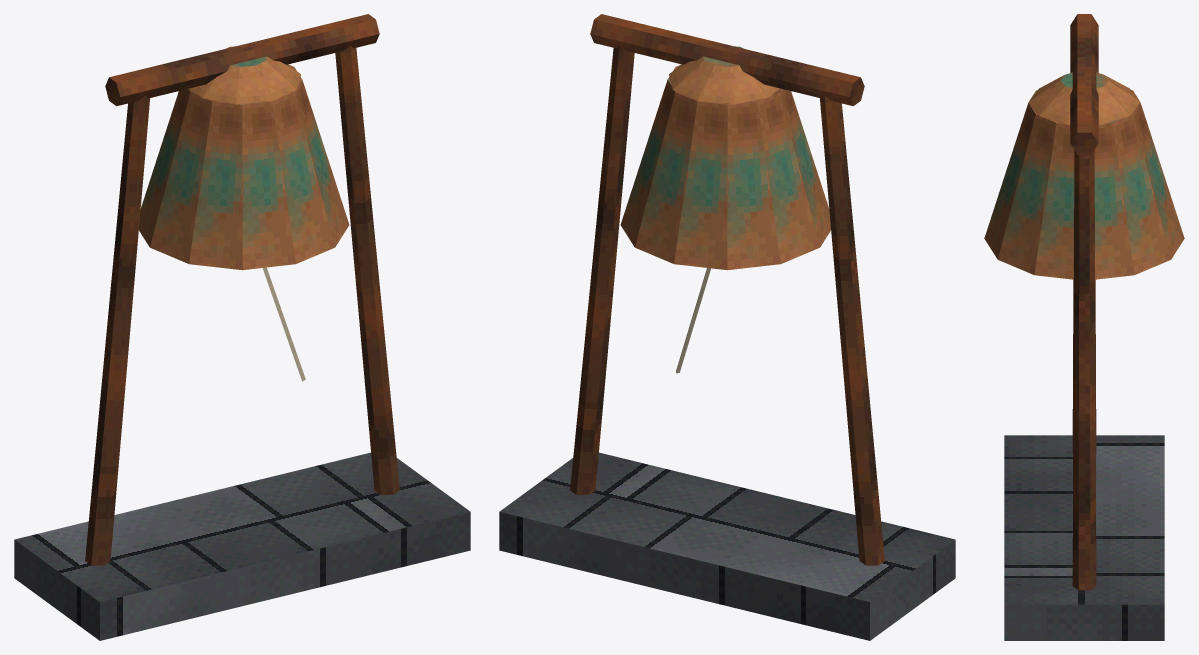
Rendered from campana_niebla.obj.
The picture shows the model from 3 angles, left to right: view 1: azimuth 30°, elevation 25°; view 2: azimuth 150°, elevation 25°; view 3: azimuth 270°, elevation 25°; orthographic projection. The views are drawn at different scales.
Visible parts, largest first — view 1: campana_niebla; view 2: campana_niebla; view 3: campana_niebla.
Boxes of the visible parts, <box> form: campana_niebla: <box>14,14,470,640</box>; campana_niebla: <box>499,14,955,640</box>; campana_niebla: <box>984,14,1184,640</box>.
Size of the model in its own units: 2 by 2.67 by 1.
4 materials, 4 textured.
